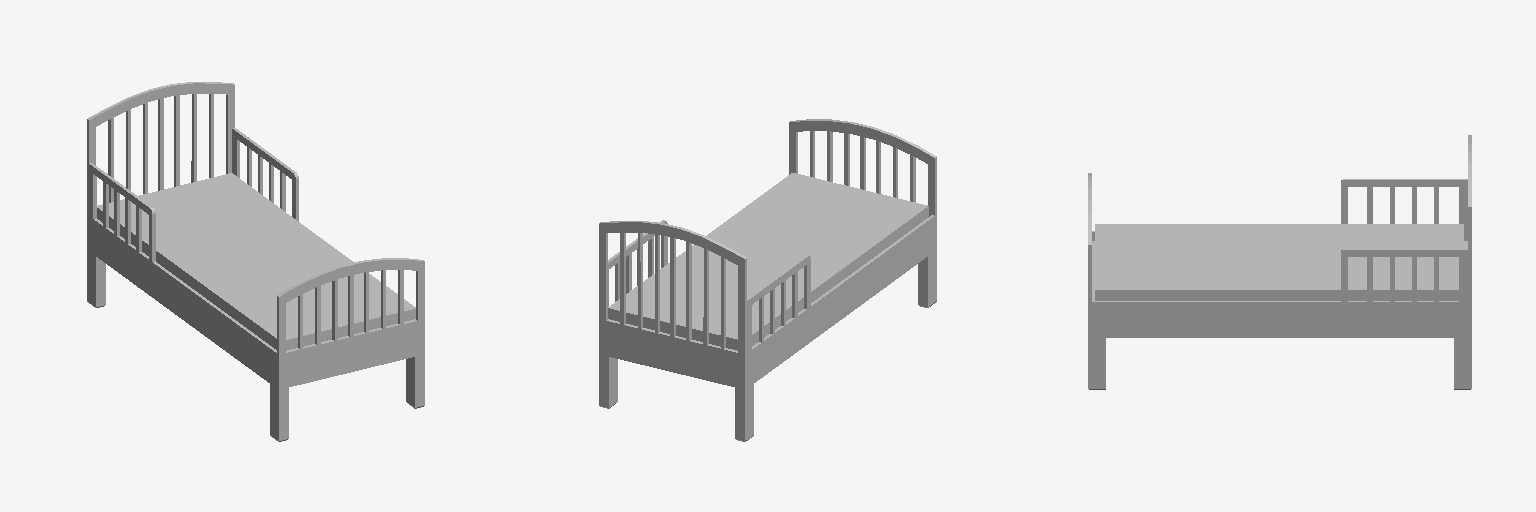
The model's file is childbed.obj.
3 views of the same model, side by side, from view 1: azimuth 30°, elevation 25°; view 2: azimuth 150°, elevation 25°; view 3: azimuth 270°, elevation 25° (orthographic).
Parts seen in each view (by area): view 1: Bed_Frame_Final, Mattress; view 2: Bed_Frame_Final, Mattress; view 3: Mattress, Bed_Frame_Final.
Part boxes in pixels (x1,y1,x2,y2): Bed_Frame_Final: (87,82,424,441); Mattress: (97,173,415,350); Bed_Frame_Final: (599,119,936,441); Mattress: (608,173,928,350); Mattress: (1095,224,1463,300); Bed_Frame_Final: (1088,135,1471,389).
Size of the model in its own units: 0.65 by 0.8387 by 1.47.